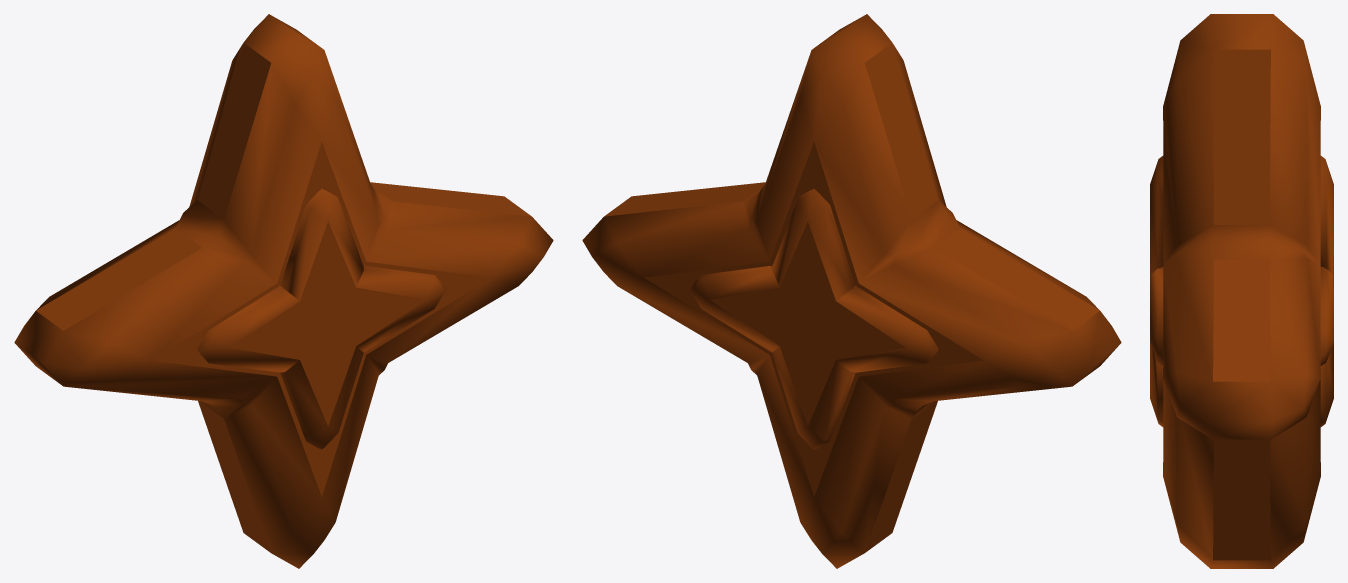
The model's file is PROP_Spark.glb.
3 renders of one model, left to right at view 1: azimuth 30°, elevation 25°; view 2: azimuth 150°, elevation 25°; view 3: azimuth 270°, elevation 25°, orthographic. The views are drawn at different scales.
Visible parts, largest first — view 1: SparkOutline; view 2: SparkOutline; view 3: SparkOutline.
Boxes of the visible parts, bbox=[...] form: SparkOutline: bbox=[14, 14, 553, 568]; SparkOutline: bbox=[582, 14, 1121, 568]; SparkOutline: bbox=[1150, 14, 1333, 568].
Size of the model in its own units: 0.6972 by 0.6972 by 0.2095.
